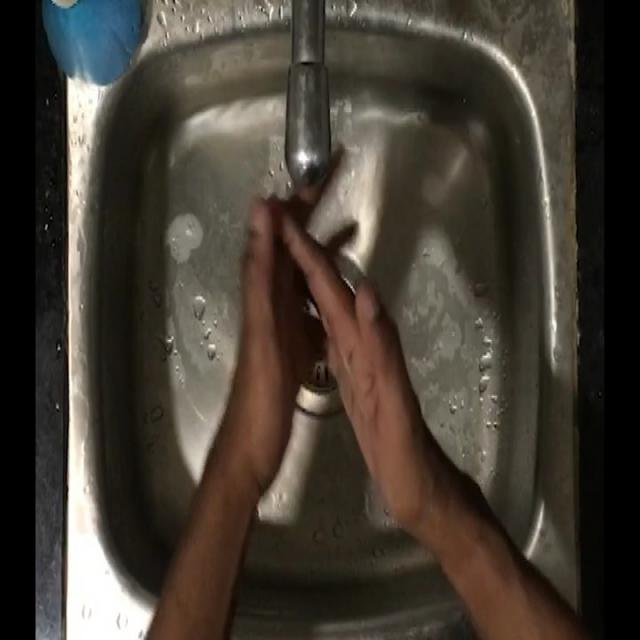step_3: (214, 128, 417, 505)
